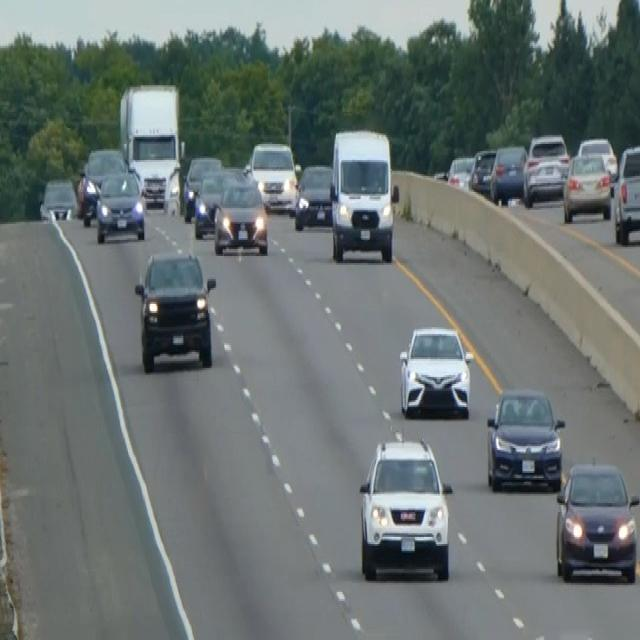car: (554, 459, 639, 583), (485, 386, 565, 490), (398, 322, 474, 418), (213, 176, 268, 256), (77, 146, 128, 224), (94, 169, 146, 243), (193, 166, 244, 238), (248, 139, 297, 213), (562, 150, 611, 222), (522, 132, 569, 206), (612, 140, 639, 246), (293, 162, 333, 231), (182, 153, 222, 220), (489, 143, 527, 205), (577, 135, 618, 185), (38, 176, 77, 222), (468, 146, 496, 196), (162, 164, 183, 215), (445, 153, 474, 188)
jeep: (356, 430, 453, 583), (133, 247, 217, 373)
lorry: (118, 80, 185, 210)
minibus: (328, 125, 399, 263)
